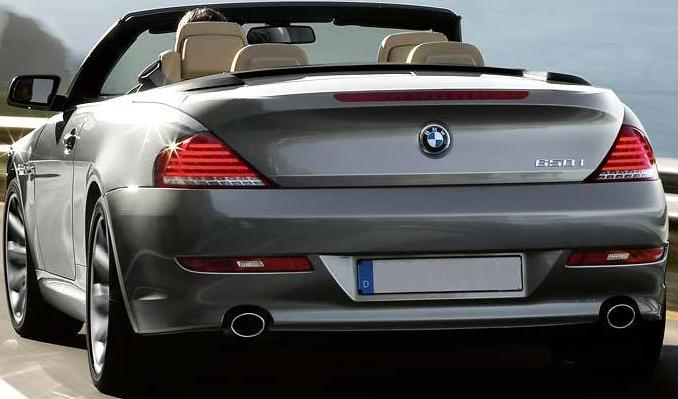back_view: (133, 85, 668, 342)
backlight: (151, 122, 285, 193)
